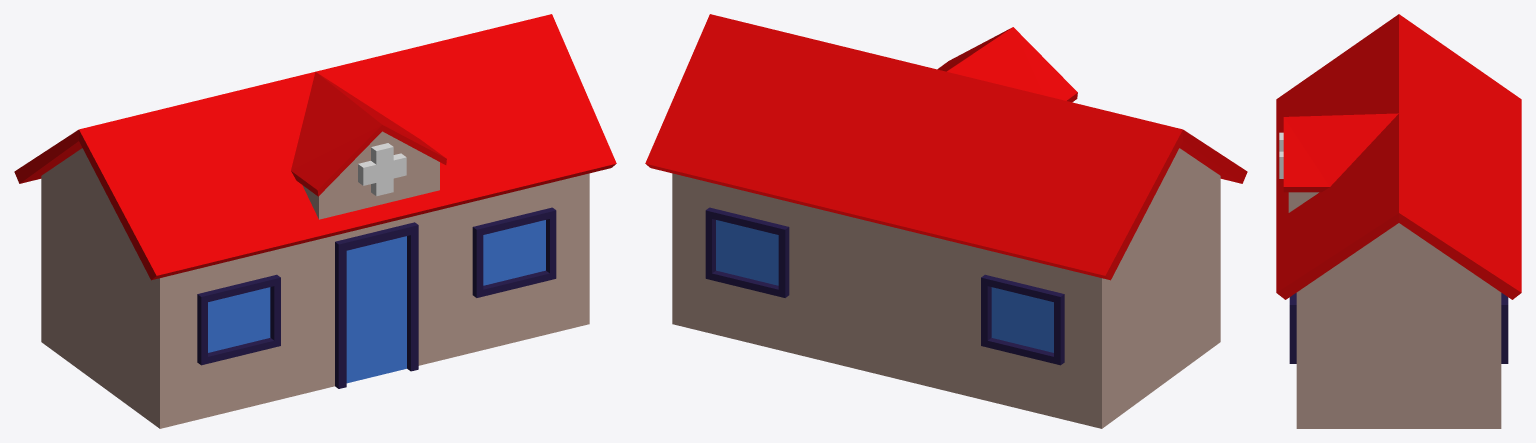
The model's file is hopistal.fbx.
3 views of the same model, side by side, from view 1: azimuth 30°, elevation 25°; view 2: azimuth 150°, elevation 25°; view 3: azimuth 270°, elevation 25° (orthographic). The views are drawn at different scales.
Visible parts, largest first — view 1: Cube, Cube.001; view 2: Cube; view 3: Cube.
Boxes of the visible parts, x1,y1,x2,y2 form: Cube: [14, 14, 616, 428]; Cube.001: [358, 143, 406, 196]; Cube: [645, 14, 1247, 428]; Cube: [1276, 14, 1521, 428].
Bounding box in the file's own units: 460 × 243 × 240.
